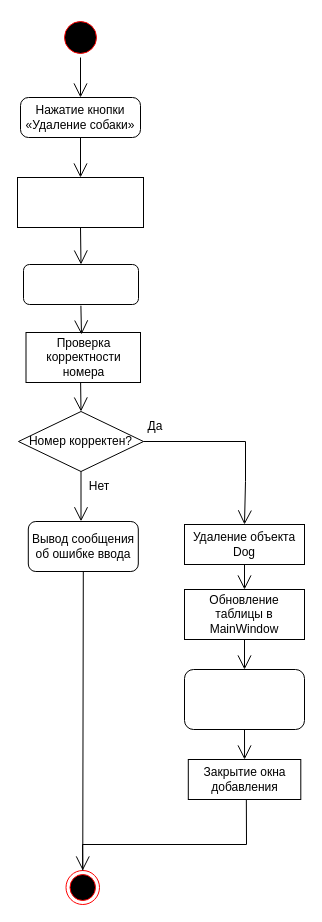
Some shapes in this 322 by 922 pixel diagram are drawn without their labels. Each missing label, with the centre of its shape:
"Ввод порядкового номера собаки" belongs at point 80,284.
"Вывести сообщение об успешном удалении" belongs at point 244,699.
"Открыть окно DeleteElementWindow" belongs at point 80,202.
